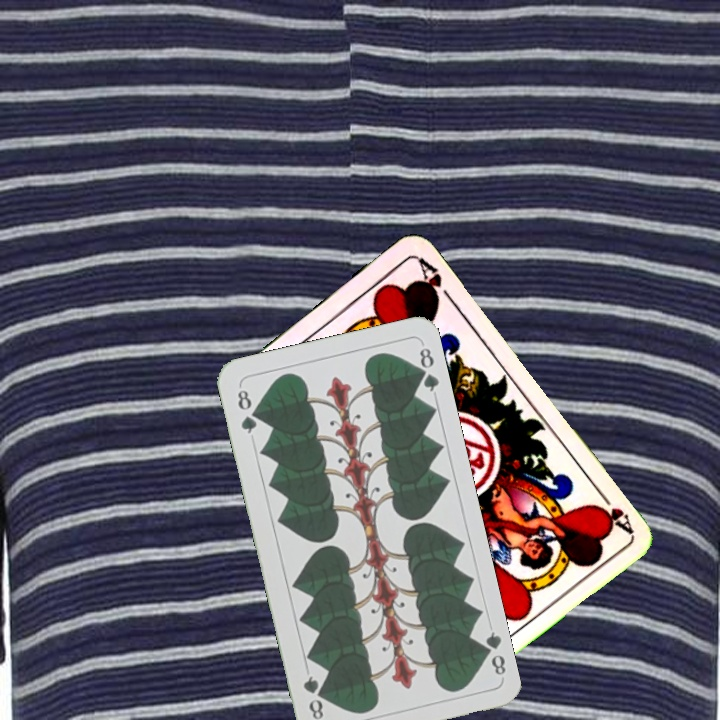G8: (475, 627, 509, 678), (233, 385, 260, 437)
HA: (590, 484, 635, 535)
